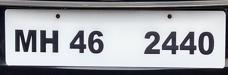0: (196, 31, 218, 55)
2: (140, 29, 162, 55)
4: (67, 26, 87, 55), (178, 30, 199, 56), (161, 30, 180, 54)
6: (86, 30, 107, 55)
H: (38, 27, 61, 56)
M: (11, 25, 39, 55)
